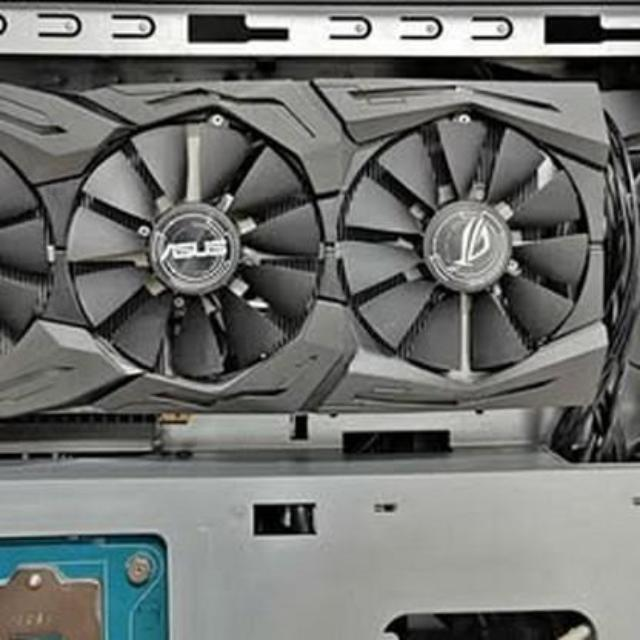GPU: (0, 92, 640, 430)
